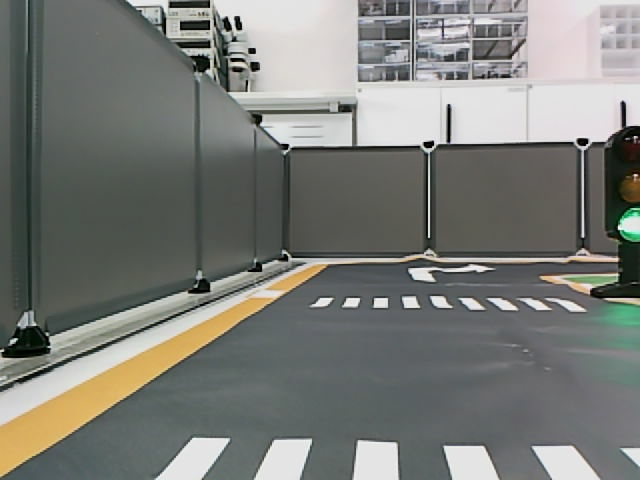crosswalk: (146, 432, 640, 480), (307, 295, 587, 315)
green: (618, 206, 640, 244)
